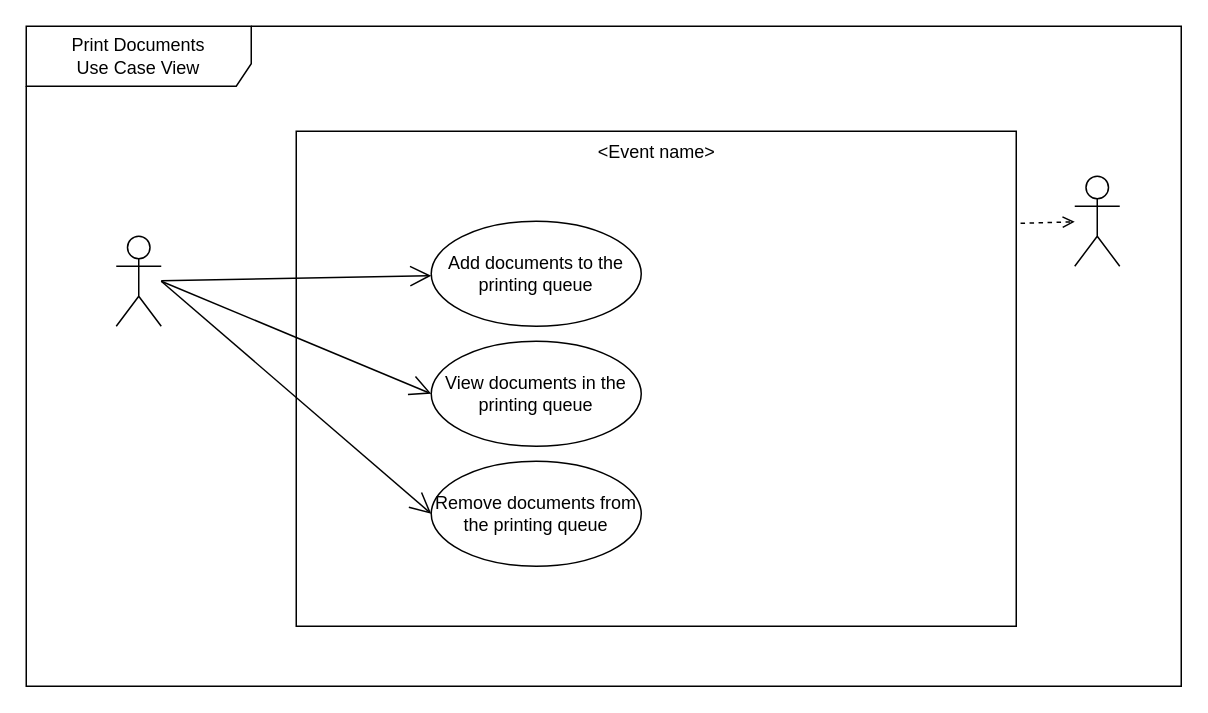
Some shapes in this 1208 by 713 pixel diagram are drawn without their labels. Each missing label, with the box of its shape:
Student: (115, 235, 161, 326)
Webprint Server: (1073, 175, 1120, 266)
